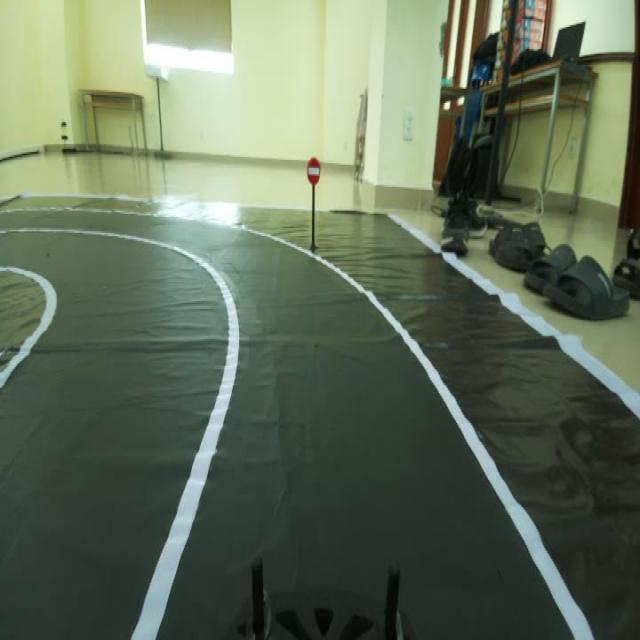no_entry: (304, 147, 326, 192)
